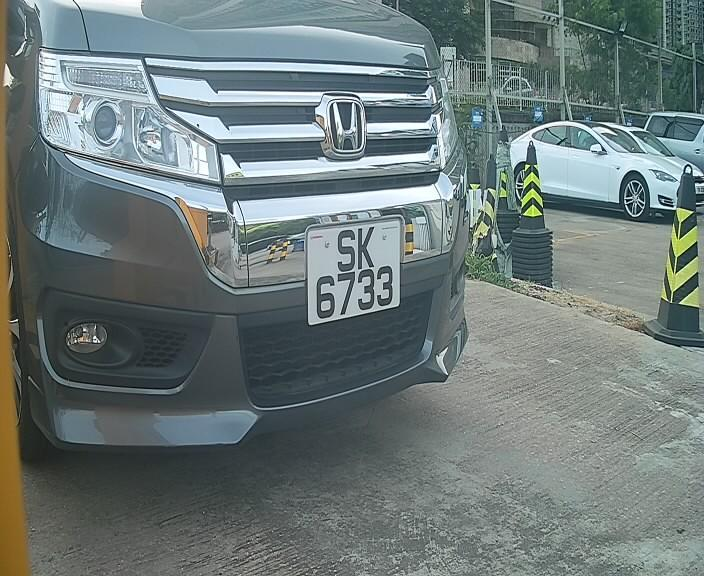privatecar: (1, 8, 516, 466)
